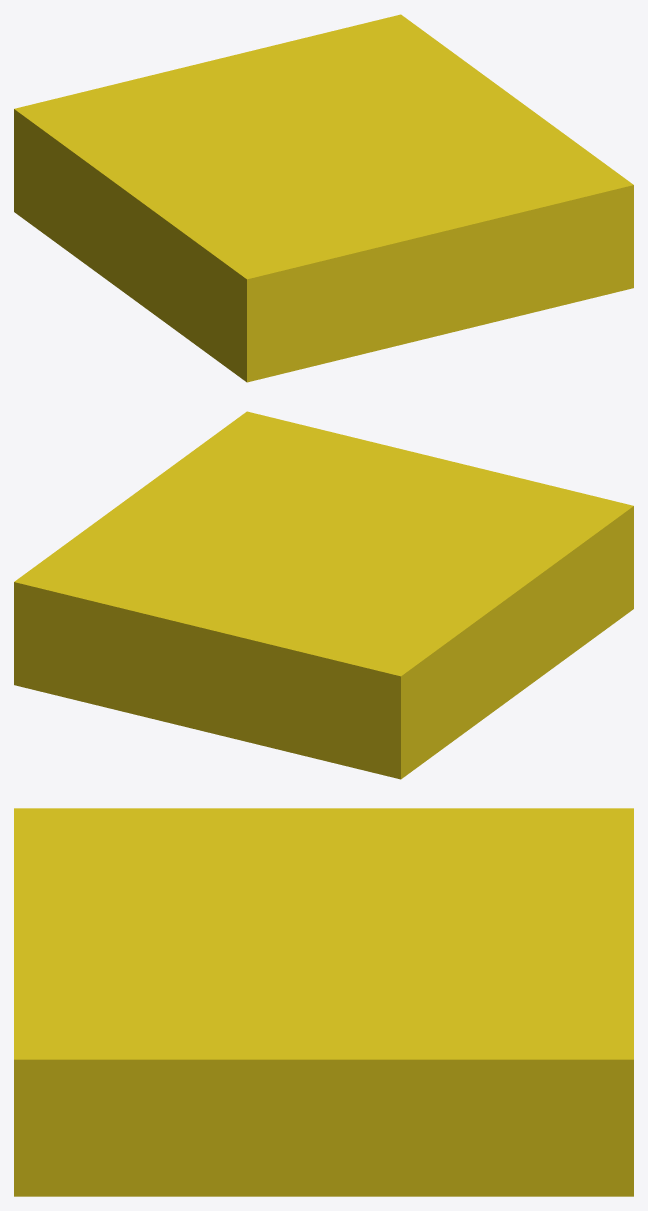
Rendered from terrainone-start.fbx.
3 views of the same model, one above another, from view 1: azimuth 30°, elevation 25°; view 2: azimuth 150°, elevation 25°; view 3: azimuth 270°, elevation 25° (orthographic). The views are drawn at different scales.
Visible parts, largest first — view 1: pCube111; view 2: pCube111; view 3: pCube111.
Part boxes in pixels (left/top/right/bottom): pCube111: left=14, top=14, right=633, bottom=382; pCube111: left=14, top=411, right=633, bottom=779; pCube111: left=14, top=808, right=633, bottom=1196.
Bounding box in the file's own units: 2.33 × 0.5922 × 2.43.
